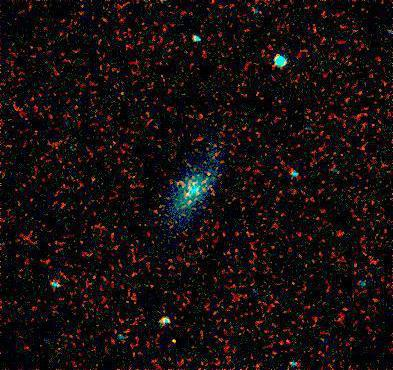star: (194, 161, 224, 191)
